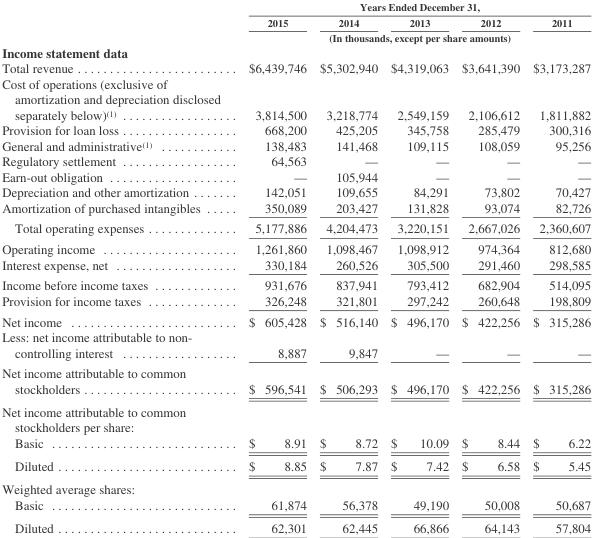table: (1, 0, 590, 535)
table column: (1, 0, 233, 535), (233, 0, 312, 535), (312, 0, 383, 535), (383, 0, 454, 535), (454, 0, 525, 535), (525, 0, 590, 535)
table column header: (1, 0, 590, 44)
table projected row header: (1, 399, 590, 434), (1, 477, 590, 496), (1, 44, 590, 60)
table row: (1, 75, 590, 122), (1, 362, 590, 399), (1, 399, 590, 434), (1, 328, 590, 362), (1, 454, 590, 477), (1, 217, 590, 238), (1, 434, 590, 454), (1, 496, 590, 516), (1, 477, 590, 496), (1, 516, 590, 535), (1, 199, 590, 217), (1, 238, 590, 256), (1, 256, 590, 274), (1, 274, 590, 292), (1, 292, 590, 310), (1, 310, 590, 328), (1, 44, 590, 60), (1, 137, 590, 153), (1, 168, 590, 184), (1, 14, 590, 29), (1, 29, 590, 44), (1, 60, 590, 75), (1, 122, 590, 137), (1, 153, 590, 168), (1, 184, 590, 199), (1, 0, 590, 14)
table spanning cell: (233, 29, 590, 44), (233, 0, 590, 14)
